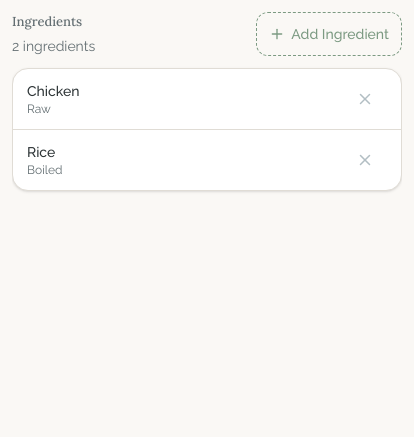
it: auto-saves a valid expanded row before switching to another row
Step 1. Click the button "Chicken Raw" → (53, 91), box [27, 69, 333, 129]
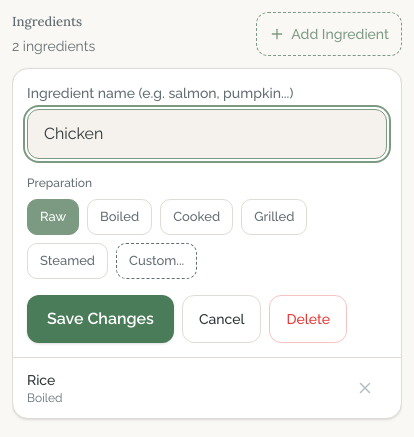
Step 2. Replace the text in the field labelled "Ingredient name (e.g. salmon, pumpkin...)" with "Chicken Breast" → (207, 134), box [27, 109, 387, 159]
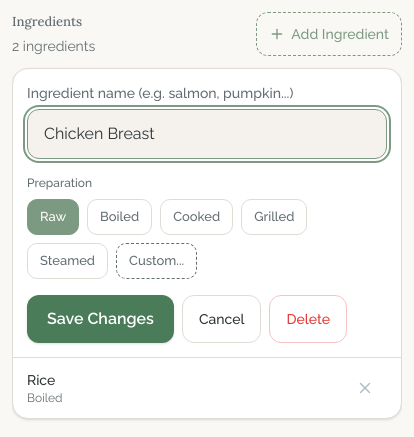
Step 3. Click the button "Rice Boiled" → (45, 398), box [27, 358, 333, 418]
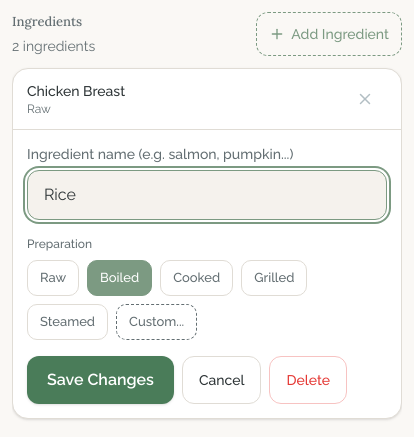
expect the button "Save Changes" is shown: met, box [27, 356, 174, 404]
expect the field showing "Rice" is shown: met, box [27, 170, 387, 220]
expect the text "Chicken Breast" is shown: met, box [27, 83, 125, 99]
